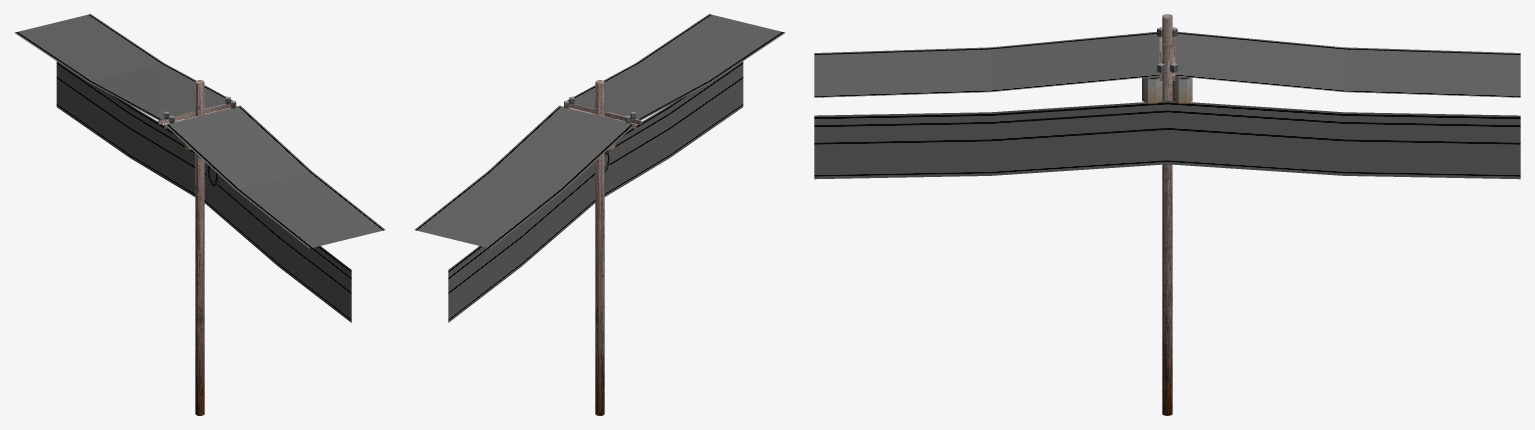
Rendered from tpole20_2a.fbx.
3 renders of one model, left to right at view 1: azimuth 30°, elevation 25°; view 2: azimuth 150°, elevation 25°; view 3: azimuth 270°, elevation 25°, orthographic. The views are drawn at different scales.
Visible parts, largest first — view 1: mesh_0; view 2: mesh_0; view 3: mesh_0.
Part boxes in pixels (x1,y1,x2,y2): mesh_0: (14,14,385,415); mesh_0: (414,14,785,415); mesh_0: (814,14,1520,415).
Size of the model in its own units: 300 by 1242 by 2000.
Materials: 1 (1 with a texture image).
